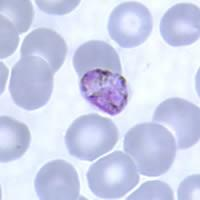Infected: (77, 68, 129, 115)
Uninfected: (123, 123, 176, 177), (149, 97, 200, 149), (16, 28, 65, 80), (65, 115, 118, 162), (86, 153, 137, 200), (7, 57, 51, 111), (70, 40, 121, 84), (108, 2, 152, 50), (33, 158, 77, 200), (159, 0, 200, 45), (0, 118, 31, 164), (1, 0, 35, 32)
